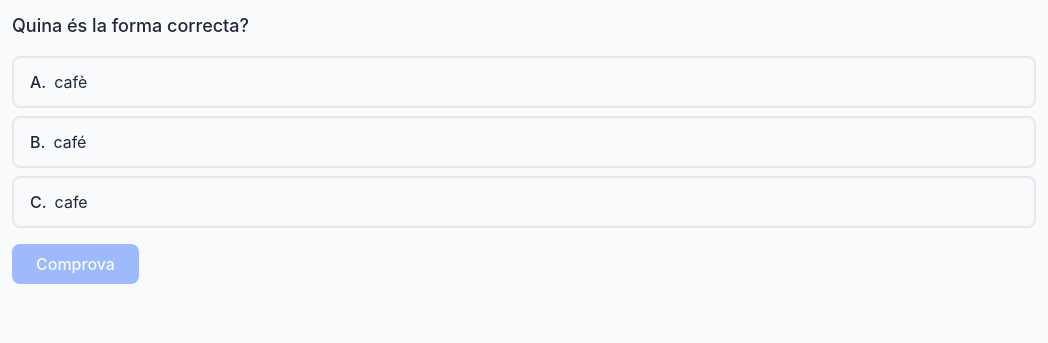
Test: MultipleChoice › shows "Incorrecte" feedback and explicacio on wrong answer
Click the button "B.café" at (70, 142), box [12,116,1036,168]
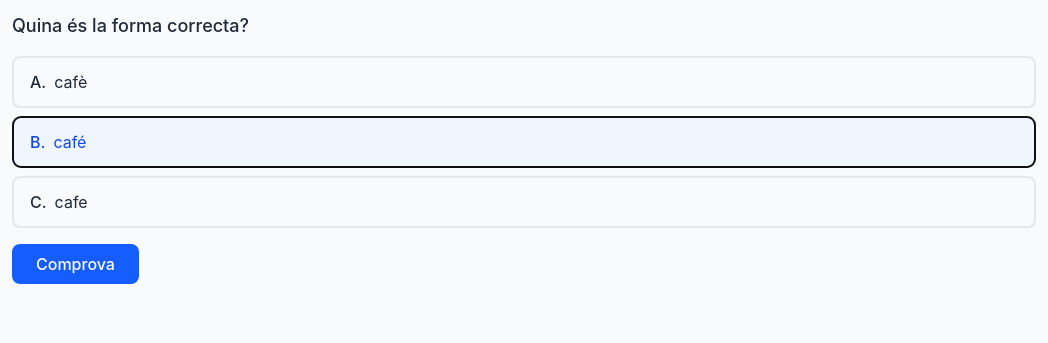
Click the button "Comprova" at (75, 264), box [12,244,139,284]
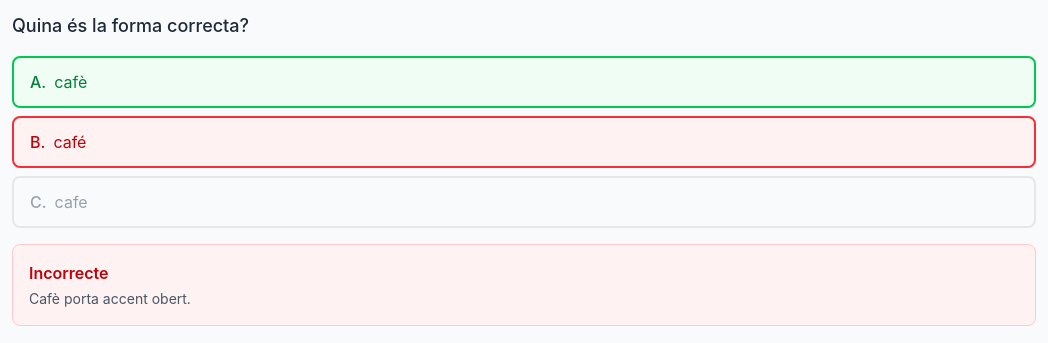
Expected: the text "Incorrecte" is shown, [29,263,108,283]
Expected: the text "Cafè porta accent obert." is shown, [29,290,191,307]
